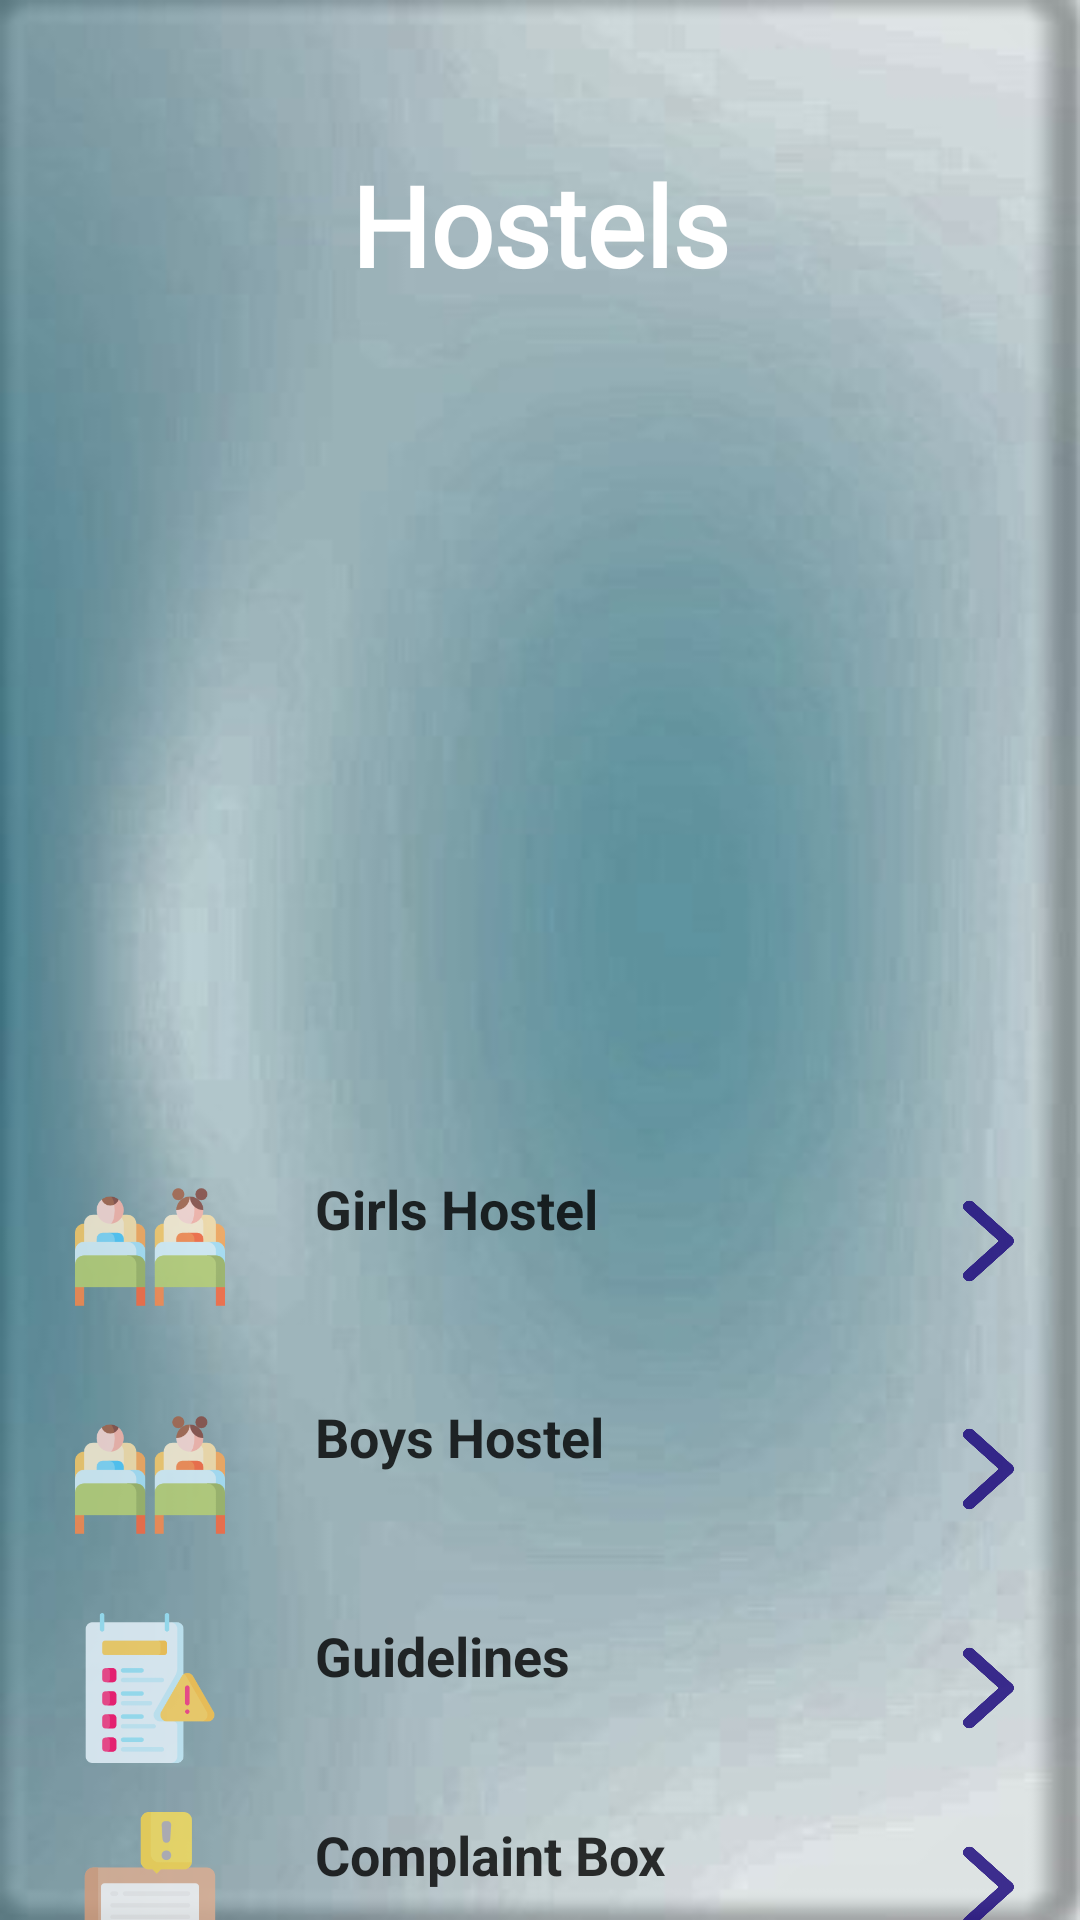

Where to tap for icons on this 1080×1920 app screen, as (x=x, y=y):
accomodation: (x=150, y=1247), (x=150, y=1475)
